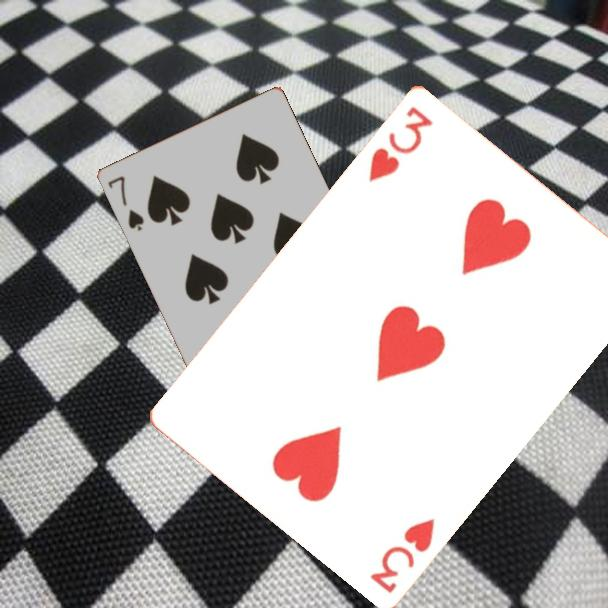h03: (366, 514, 438, 596), (365, 102, 436, 185)
s07: (104, 172, 147, 234)
